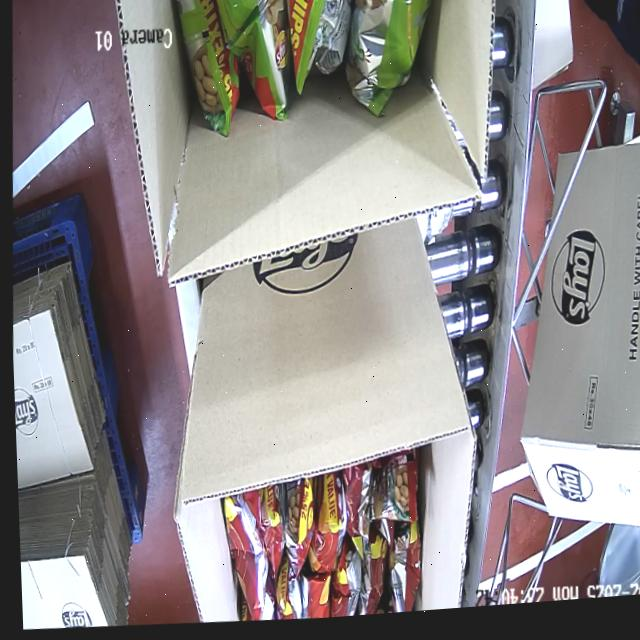MASALA: (223, 443, 428, 625)
YOGURT_HERB: (159, 0, 452, 154)
